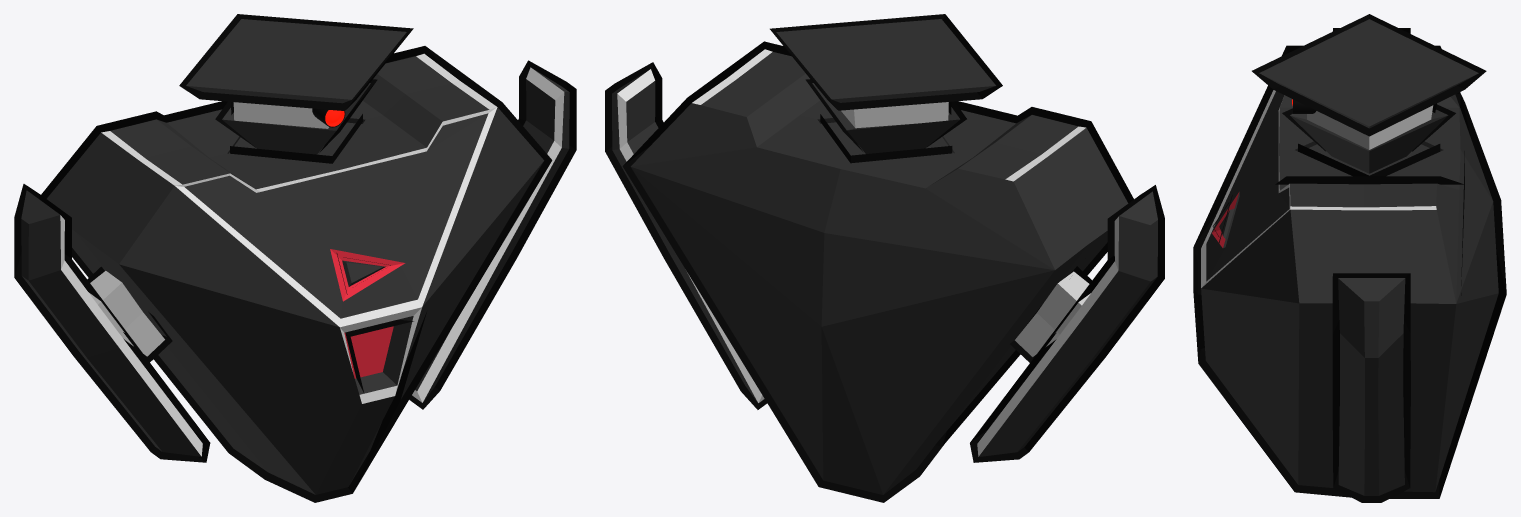
The model's file is enemyLaserToon.fbx.
3 renders of one model, left to right at view 1: azimuth 30°, elevation 25°; view 2: azimuth 150°, elevation 25°; view 3: azimuth 270°, elevation 25°, orthographic.
Visible parts, largest first — view 1: Cube, Cube.002, Cube.001; view 2: Cube, Cube.002, Cube.001; view 3: Cube, Cube.001.
Boxes of the visible parts, <box> form: Cube: <box>41,14,552,502</box>; Cube.002: <box>14,184,210,462</box>; Cube.001: <box>409,60,576,409</box>; Cube: <box>622,14,1133,502</box>; Cube.002: <box>970,185,1164,462</box>; Cube.001: <box>605,62,767,409</box>; Cube: <box>1193,14,1506,498</box>; Cube.001: <box>1332,273,1410,502</box>.
Bounding box in the file's own units: 315 × 225 × 155.
